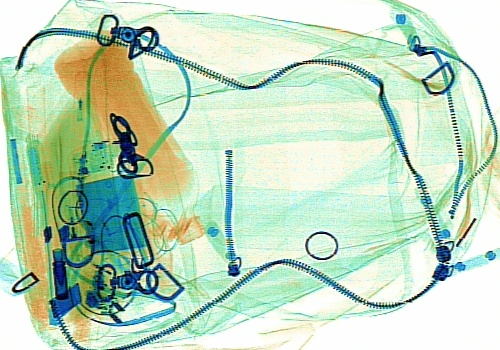lighter: (57, 168, 78, 241)
